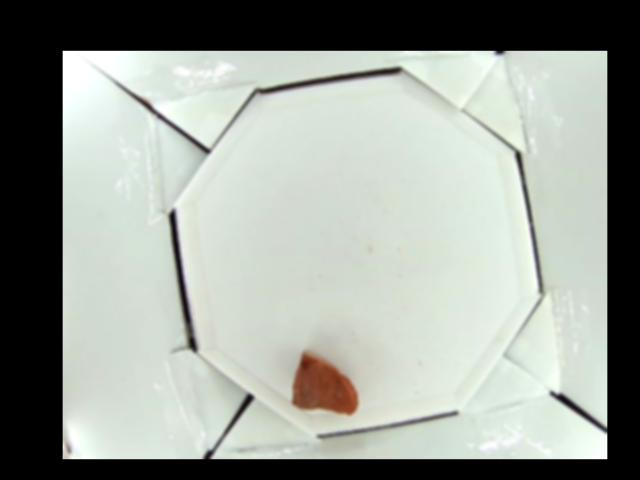Brisk: (290, 348, 357, 415)
